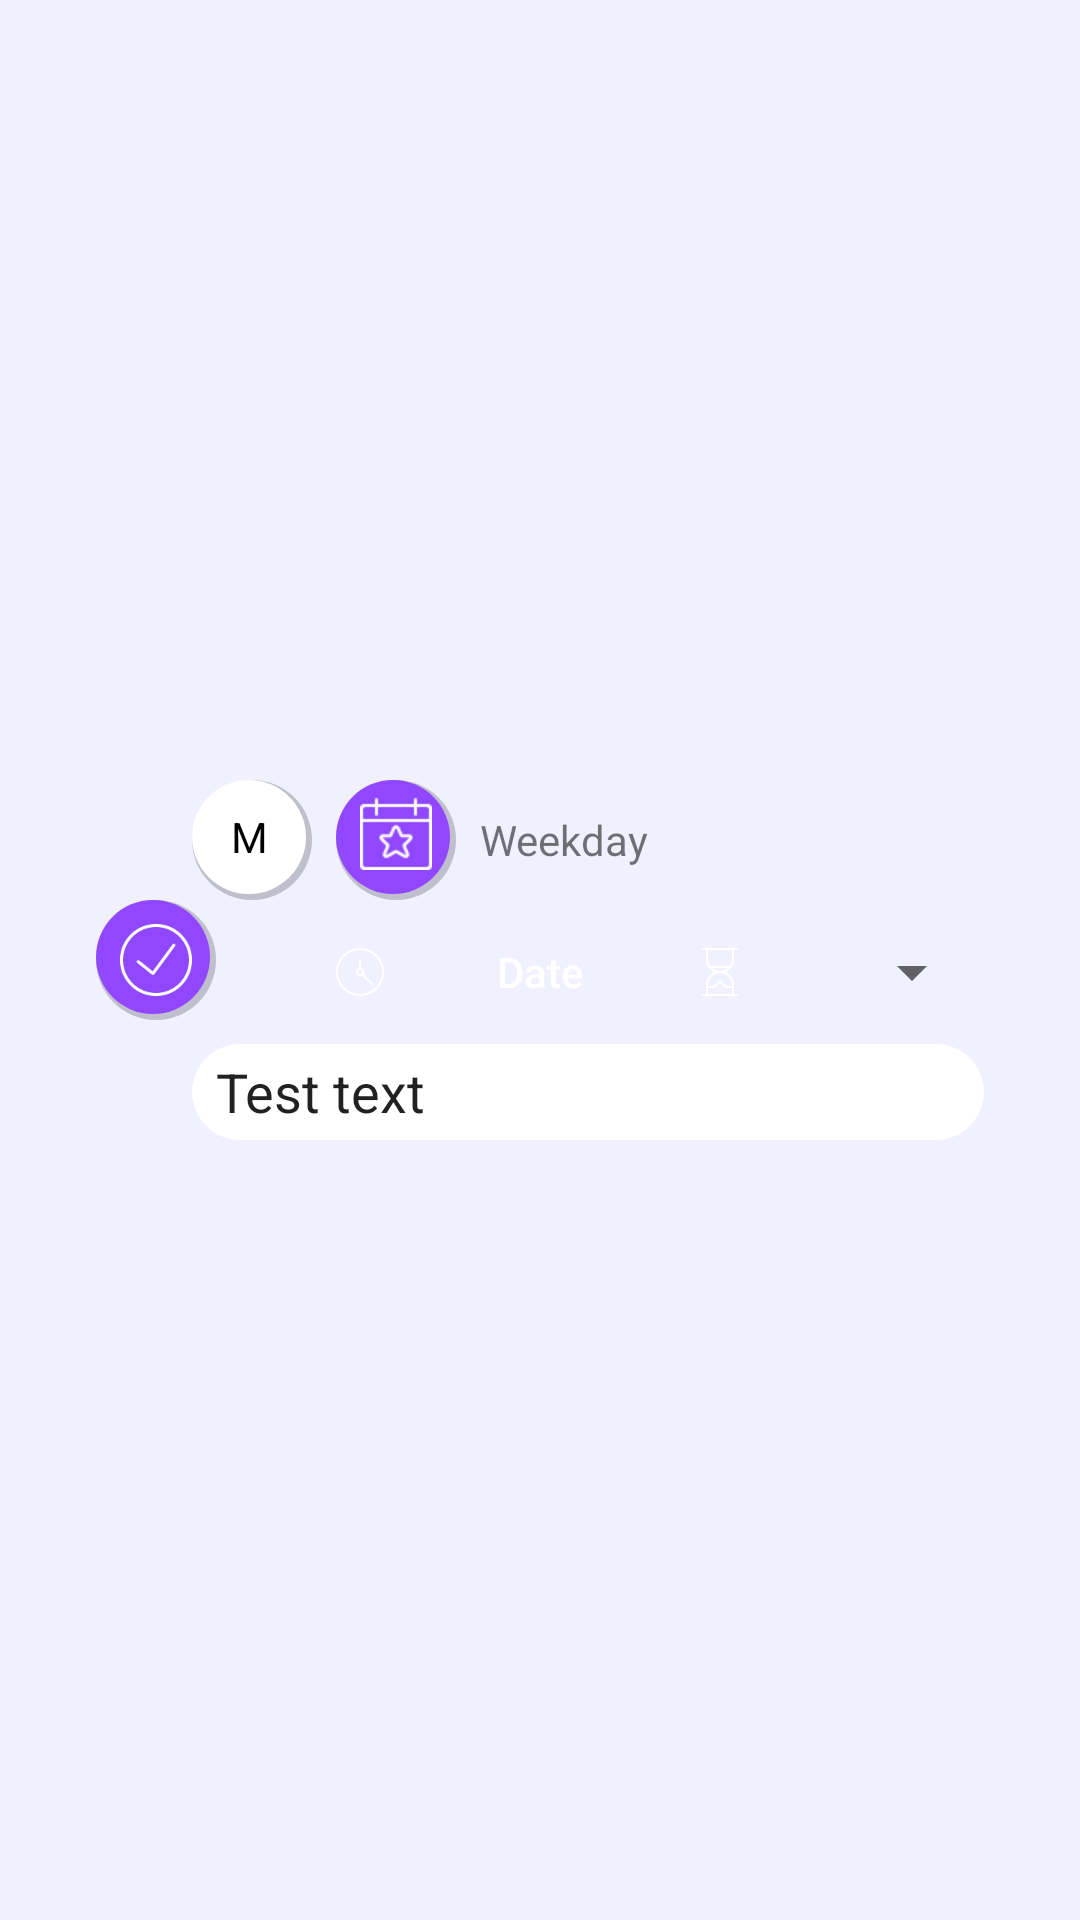

Icon bounding boxes for this 1080px×1920px phone screenshot, format (x1, y1, x2, y2):
calendar favorite: (336, 780, 456, 900)
check circle: (96, 900, 216, 1020)
